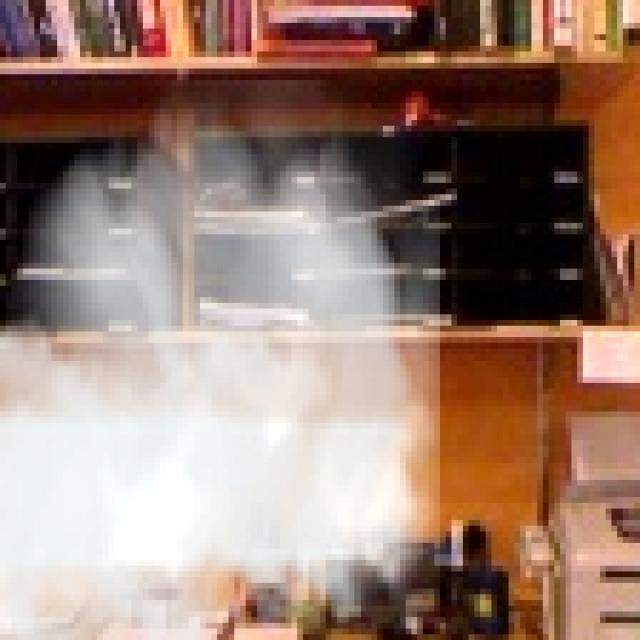smoke: (0, 80, 440, 640)
